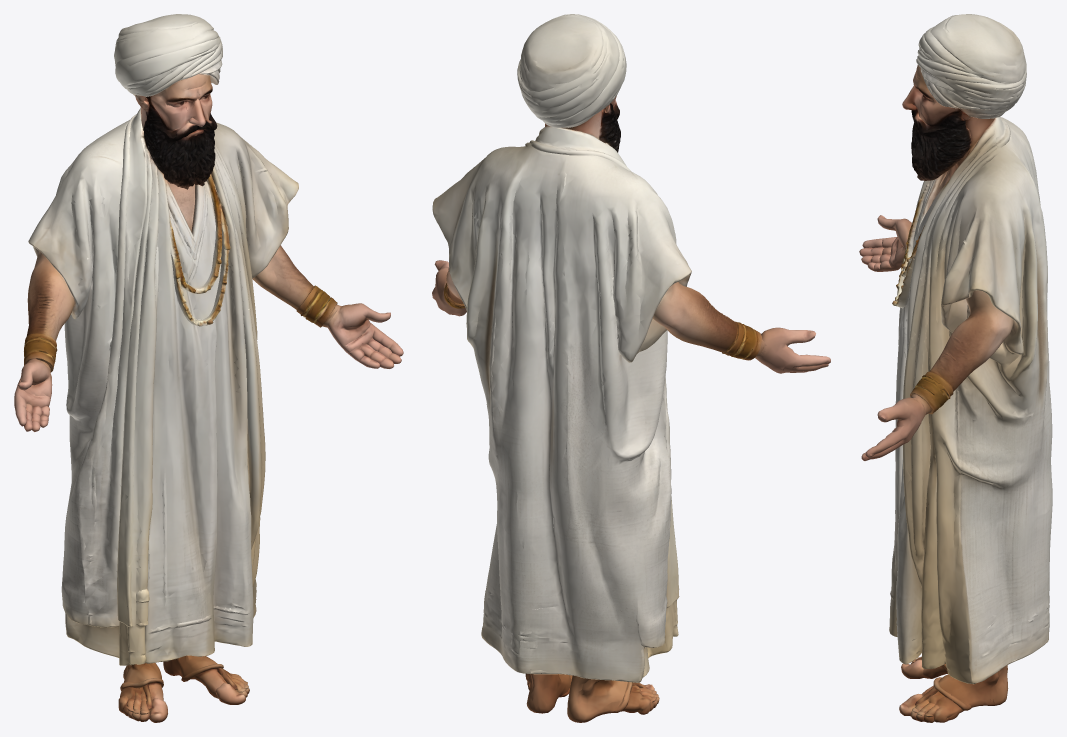
The model's file is crowd_court_official_rodin_source.glb.
The picture shows the model from 3 angles, left to right: view 1: azimuth 30°, elevation 25°; view 2: azimuth 150°, elevation 25°; view 3: azimuth 270°, elevation 25°; orthographic projection.
Parts seen in each view (by area): view 1: model; view 2: model; view 3: model.
Boxes of the visible parts, x1=… form: model: x1=14, y1=14, x2=403, y2=722; model: x1=432, y1=14, x2=830, y2=722; model: x1=859, y1=14, x2=1052, y2=722.
Size of the model in its own units: 1.14 by 1.9 by 0.4942.
1 material, 1 textured.
